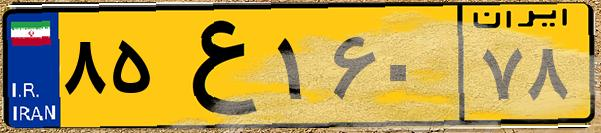0: (385, 28, 445, 110)
1: (270, 28, 330, 110)
5: (110, 28, 158, 98)
6: (330, 28, 385, 110)
7: (475, 38, 525, 113)
8: (57, 26, 110, 100), (525, 38, 570, 115)
ع: (158, 12, 270, 120)
